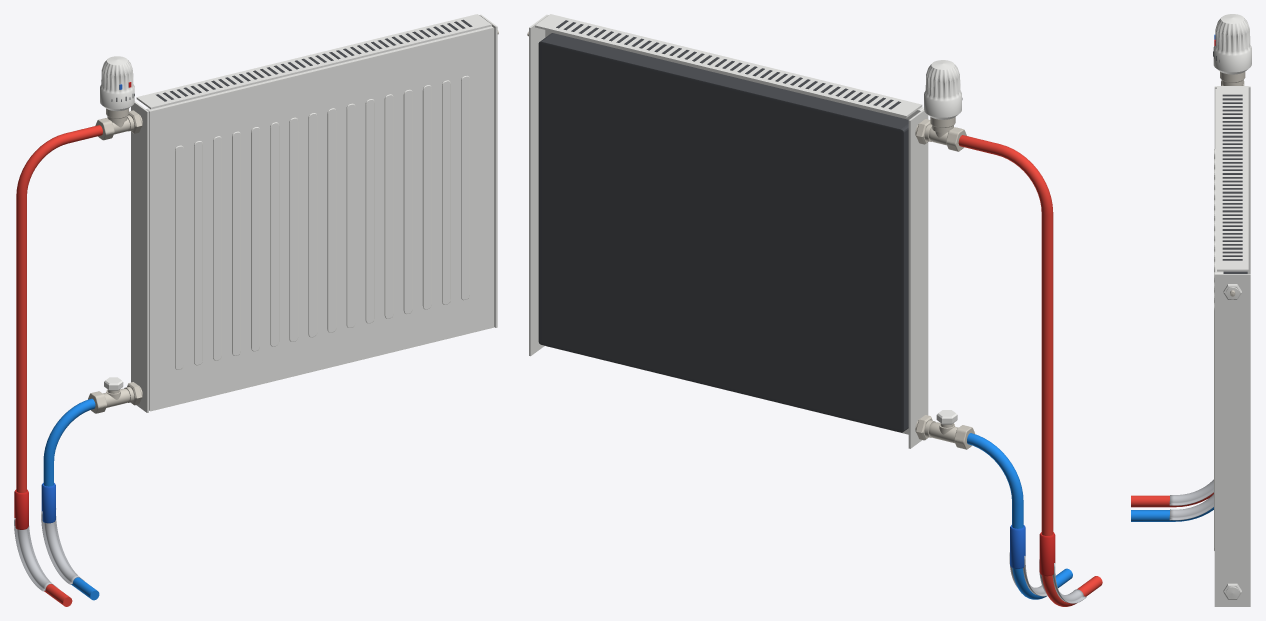
The model's file is panel_node_panel11_straight.glb.
3 views of the same model, side by side, from view 1: azimuth 30°, elevation 25°; view 2: azimuth 150°, elevation 25°; view 3: azimuth 270°, elevation 25° (orthographic). The views are drawn at different scales.
Visible parts, largest first — view 1: панель, боковина, труба 16, решётка, риф.010, риф.008, риф.011, риф.007, риф.009, риф.013, риф.005, риф.012 (+13 smaller); view 2: оребрение, труба 16, боковина, решётка, боковина.001, труба 16.001, термоголовка, панель; view 3: боковина.001, решётка, термоголовка, боковина, труба 16, труба 16.001, фиксатор 90.001, фиксатор 90, панель, риф.015, гайка термоголовки.
Part boxes in pixels (<box>): панель: <box>146,26,494,411</box>; боковина: <box>131,101,148,412</box>; труба 16: <box>16,125,102,606</box>; решётка: <box>136,14,491,109</box>; риф.010: <box>365,99,374,323</box>; риф.008: <box>327,108,336,332</box>; риф.011: <box>384,94,393,318</box>; риф.007: <box>308,113,317,337</box>; риф.009: <box>346,103,355,327</box>; риф.013: <box>422,85,431,309</box>; риф.005: <box>270,122,279,346</box>; риф.012: <box>403,89,412,313</box>; оребрение: <box>538,33,908,432</box>; труба 16: <box>958,135,1102,606</box>; боковина: <box>908,109,928,448</box>; решётка: <box>535,14,922,117</box>; боковина.001: <box>529,14,548,356</box>; труба 16.001: <box>967,433,1072,599</box>; термоголовка: <box>924,60,961,119</box>; панель: <box>545,30,923,434</box>; боковина.001: <box>1214,274,1250,606</box>; решётка: <box>1217,86,1248,271</box>; термоголовка: <box>1213,14,1251,74</box>; боковина: <box>1214,86,1250,273</box>; труба 16: <box>1131,492,1213,507</box>; труба 16.001: <box>1131,507,1213,521</box>; фиксатор 90.001: <box>1169,494,1213,520</box>; фиксатор 90: <box>1169,479,1213,505</box>; панель: <box>1215,89,1223,273</box>; риф.015: <box>1214,303,1214,550</box>; гайка термоголовки: <box>1220,71,1245,82</box>.
Bounding box in the file's own units: 0.8368 × 0.8105 × 0.164.
